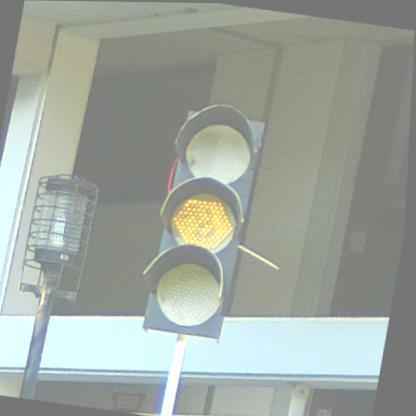yellow: (139, 98, 267, 342)
